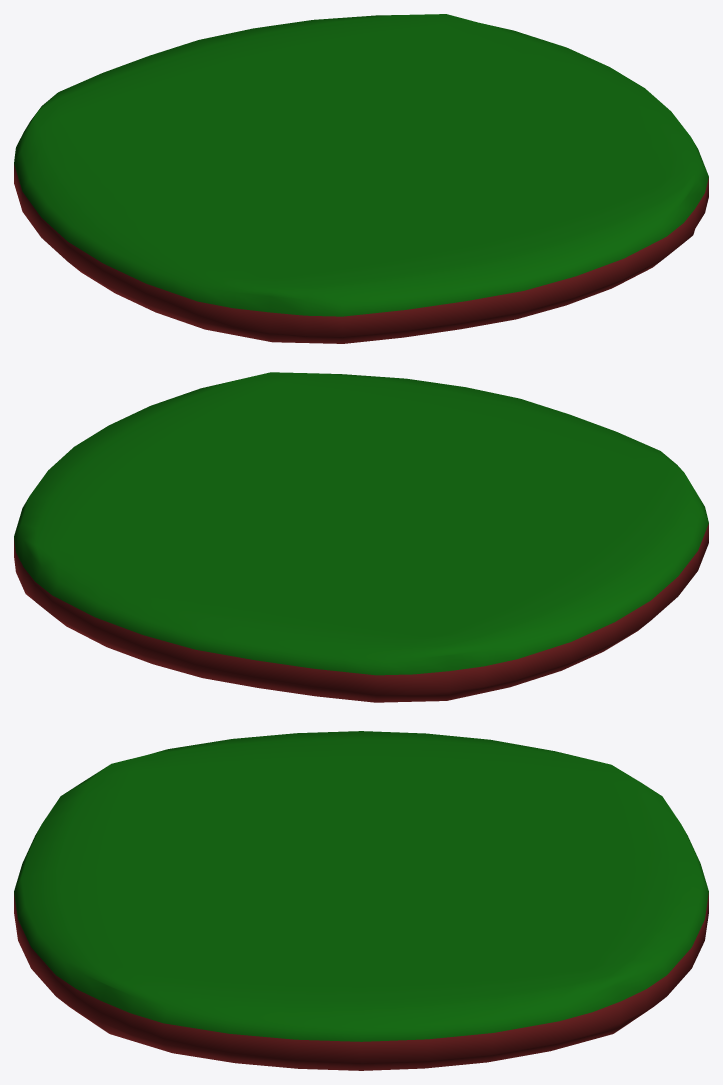
The model's file is Platform.fbx.
3 renders of one model, top to bottom at view 1: azimuth 30°, elevation 25°; view 2: azimuth 150°, elevation 25°; view 3: azimuth 270°, elevation 25°, orthographic. The views are drawn at different scales.
Parts seen in each view (by area): view 1: Cube; view 2: Cube; view 3: Cube.
Boxes of the visible parts, bbox=[...] form: Cube: bbox=[14, 14, 708, 343]; Cube: bbox=[14, 372, 708, 702]; Cube: bbox=[14, 731, 708, 1070].
Size of the model in its own units: 1518 by 238 by 1483.
